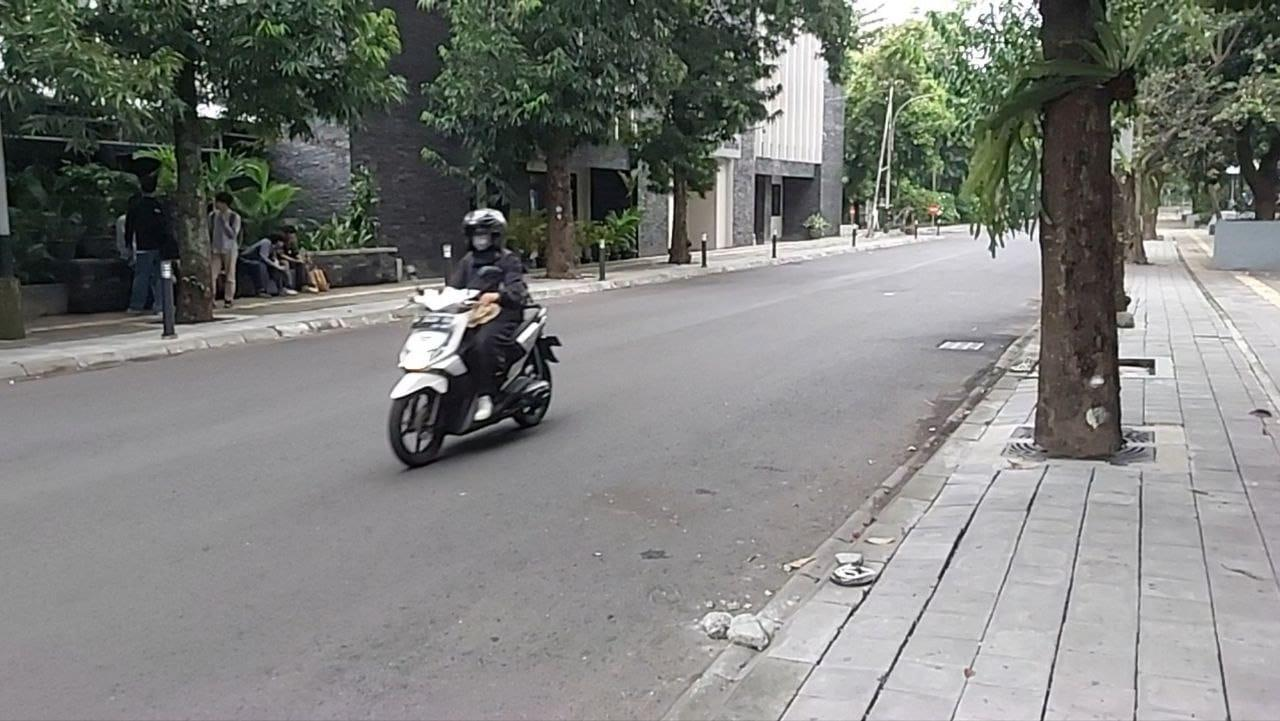helm: (461, 207, 509, 254)
riding: (387, 207, 564, 467)
